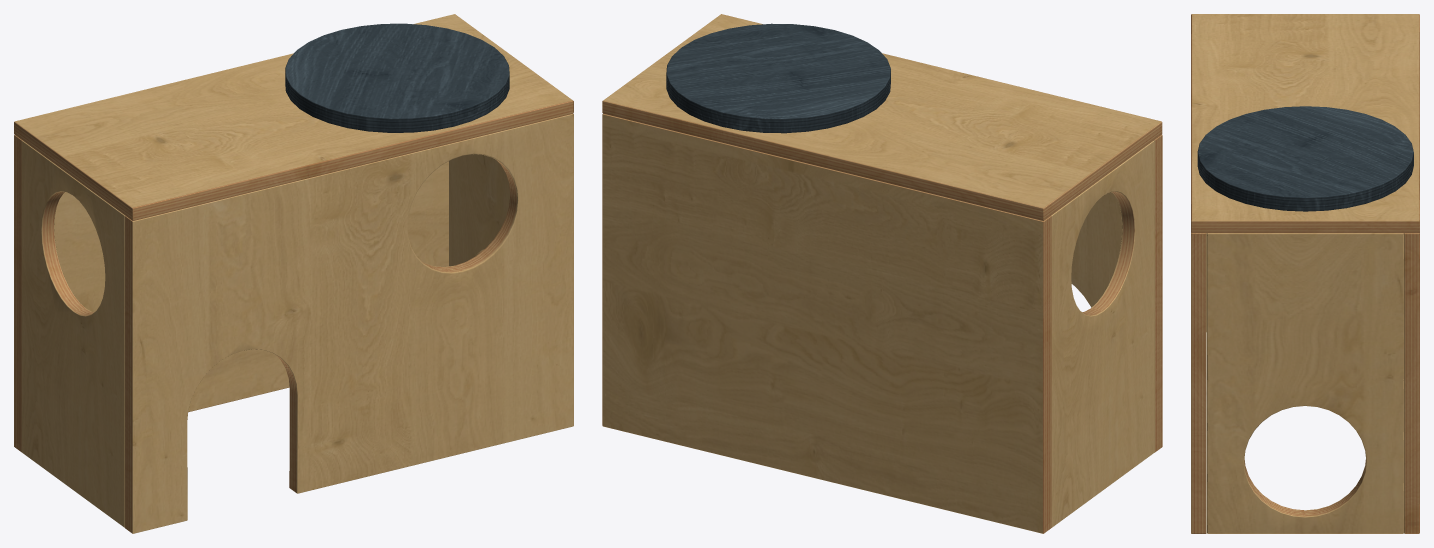
The model's file is MEGA_PACK_Pet__pet-046_365.glb.
3 renders of one model, left to right at view 1: azimuth 30°, elevation 25°; view 2: azimuth 150°, elevation 25°; view 3: azimuth 270°, elevation 25°, orthographic. The views are drawn at different scales.
Parts seen in each view (by area): view 1: pet-046_365; view 2: pet-046_365; view 3: pet-046_365.
Boxes of the visible parts, left/top/right/bottom form: pet-046_365: left=14, top=14, right=573, bottom=533; pet-046_365: left=602, top=14, right=1162, bottom=533; pet-046_365: left=1191, top=14, right=1419, bottom=533.
Size of the model in its own units: 0.6 by 0.4424 by 0.28.
1 material, 1 textured.
